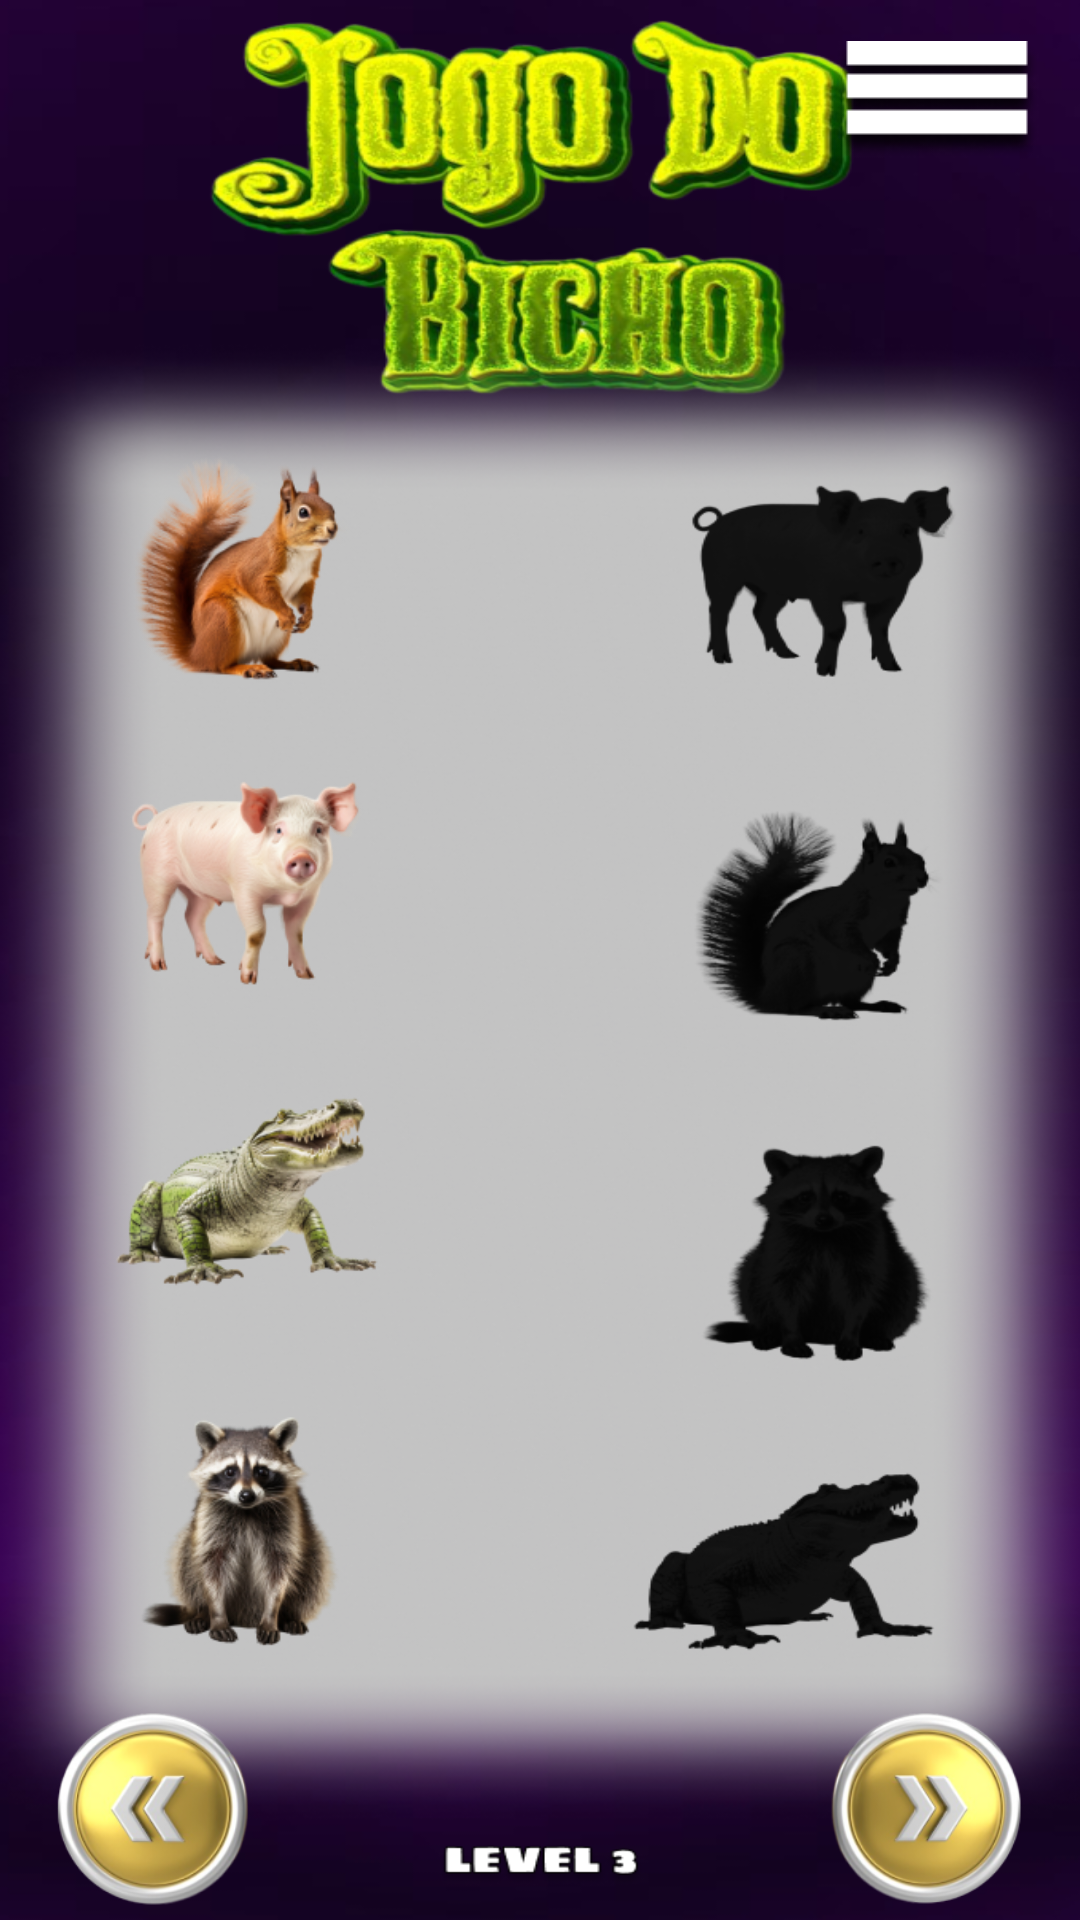

Screen size 1080w x 1920h. Icon name, then its center in pixels as point (x, y):
back tap: point (151, 1809)
next tap: point (928, 1809)
